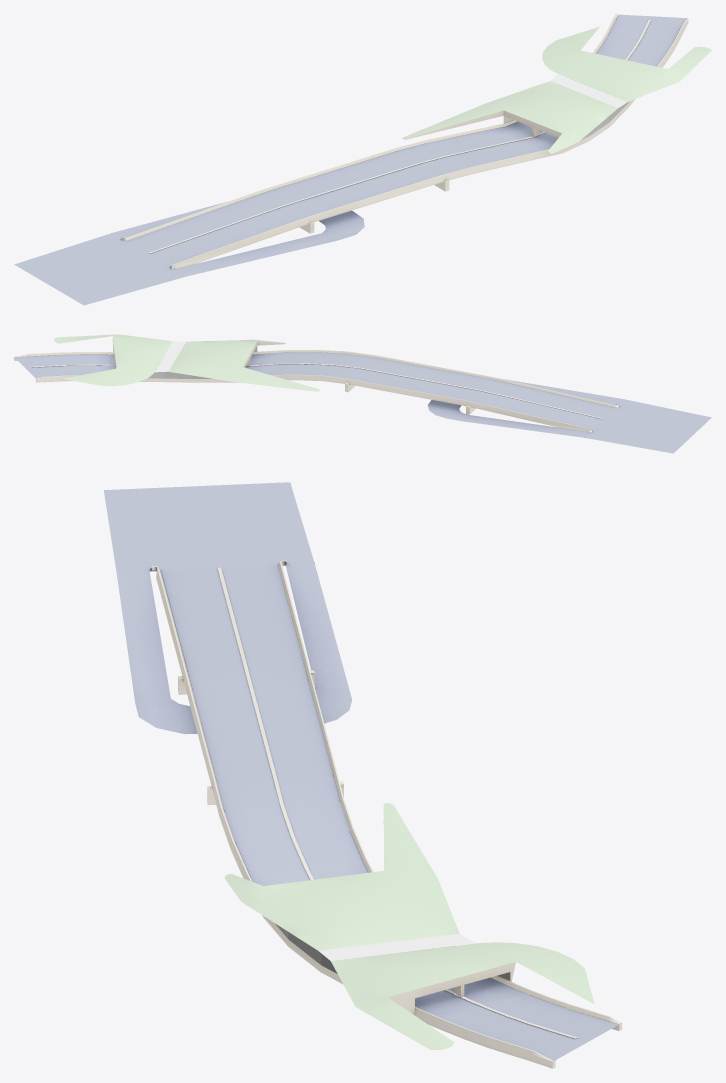
The model's file is Al-VOAD-tinted.glb.
3 views of the same model, one above another, from view 1: azimuth 30°, elevation 25°; view 2: azimuth 150°, elevation 25°; view 3: azimuth 270°, elevation 25° (orthographic). The views are drawn at different scales.
Visible parts, largest first — view 1: group_18, group_22, group_2, group_17; view 2: group_18, group_22, group_2, group_17; view 3: group_18, group_22, group_2, group_17.
Boxes of the visible parts, bbox=[...] form: group_18: bbox=[14, 14, 686, 305]; group_22: bbox=[403, 27, 711, 153]; group_2: bbox=[121, 14, 688, 269]; group_17: bbox=[551, 74, 626, 107]; group_18: bbox=[15, 352, 711, 453]; group_22: bbox=[54, 334, 319, 391]; group_2: bbox=[14, 338, 618, 432]; group_17: bbox=[155, 341, 185, 372]; group_18: bbox=[103, 482, 621, 1060]; group_22: bbox=[224, 803, 594, 1049]; group_2: bbox=[149, 560, 622, 1068]; group_17: bbox=[319, 933, 475, 960].
Size of the model in its own units: 359 by 12 by 136.
5 materials, 2 textured.
